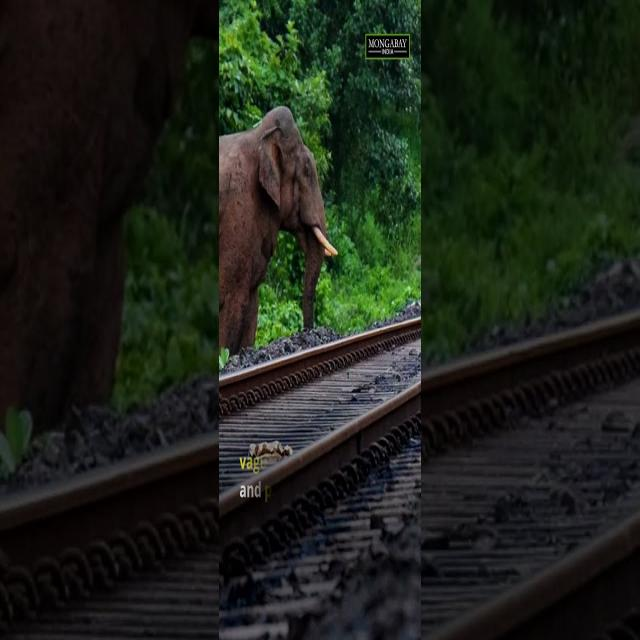Elephant: (217, 107, 336, 354)
